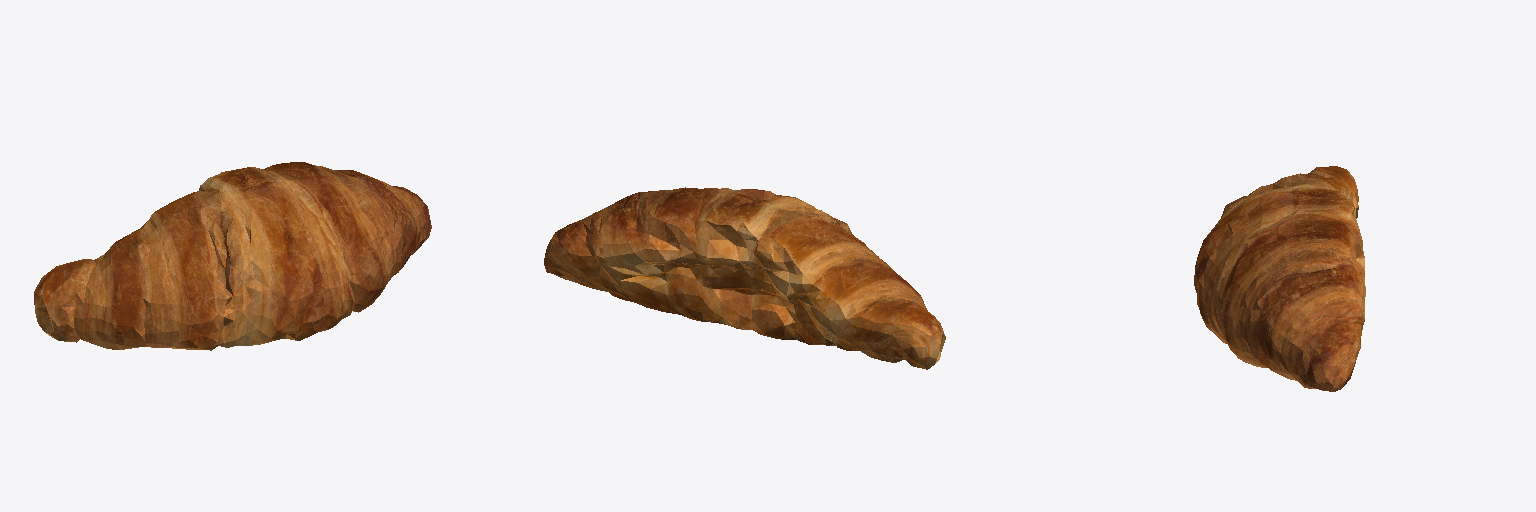
3 renders of one model, left to right at view 1: azimuth 30°, elevation 25°; view 2: azimuth 150°, elevation 25°; view 3: azimuth 270°, elevation 25°, orthographic.
Parts seen in each view (by area): view 1: croissant_Croissant_croissant_10M_textured.001; view 2: croissant_Croissant_croissant_10M_textured.001; view 3: croissant_Croissant_croissant_10M_textured.001.
Boxes of the visible parts, x1,y1,x2,y2 form: croissant_Croissant_croissant_10M_textured.001: [34, 162, 431, 350]; croissant_Croissant_croissant_10M_textured.001: [544, 187, 945, 369]; croissant_Croissant_croissant_10M_textured.001: [1194, 166, 1365, 391].
Bounding box in the file's own units: 0.2 × 0.062 × 0.0755.
1 materials, 1 textured.